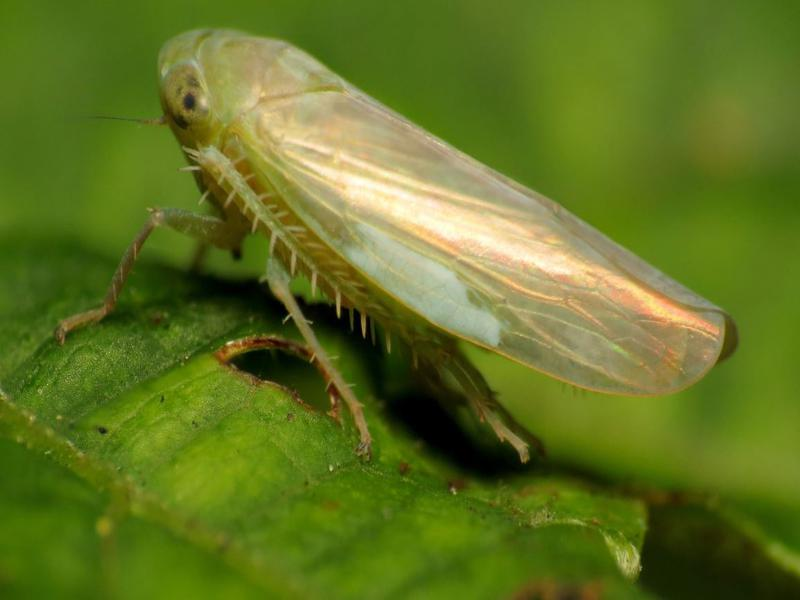Brown_plant_leafhopper: (135, 20, 741, 424)
